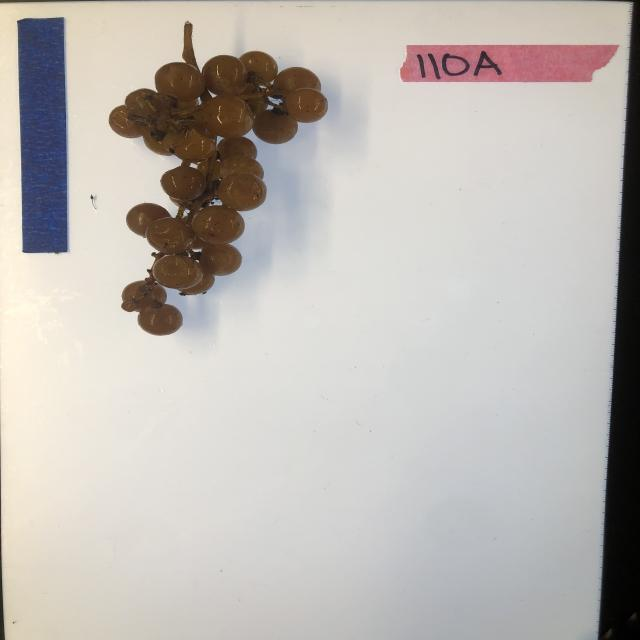grape_cluster: (108, 19, 330, 338)
index: (398, 42, 619, 83)
measure_label: (15, 16, 70, 253)
